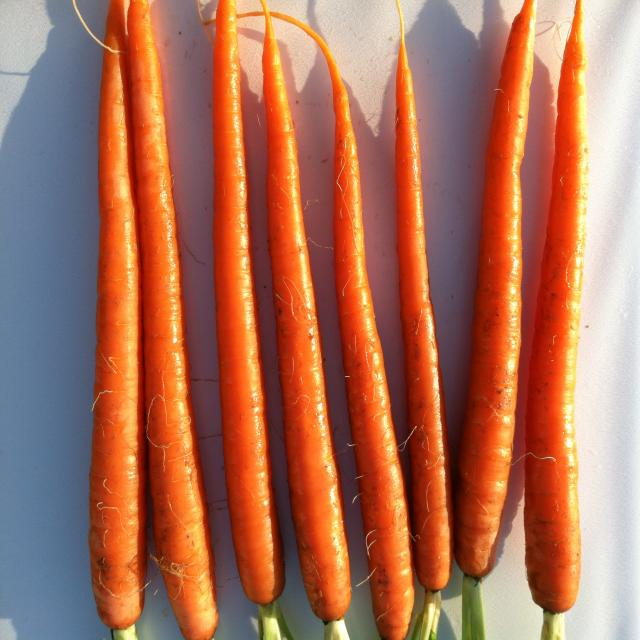Carrot: (119, 0, 218, 640), (509, 0, 601, 640), (443, 0, 535, 640), (261, 0, 352, 640), (330, 6, 410, 640), (210, 0, 288, 640), (76, 0, 151, 640), (398, 0, 456, 640)
